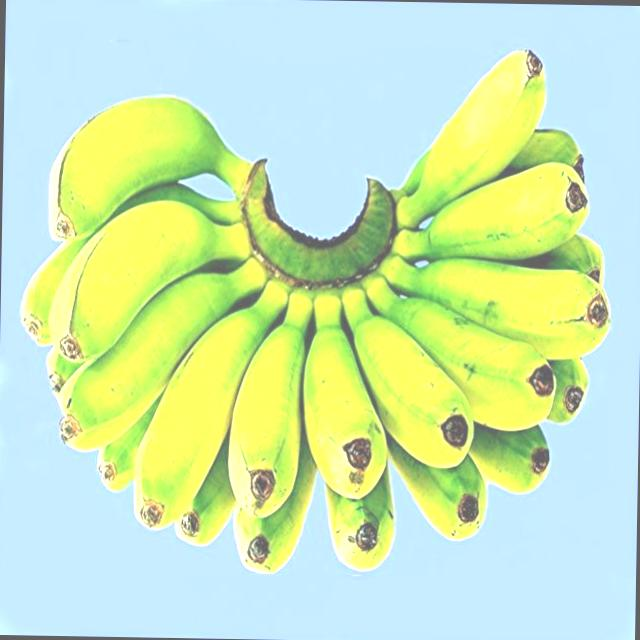Banana: (17, 40, 614, 579)
